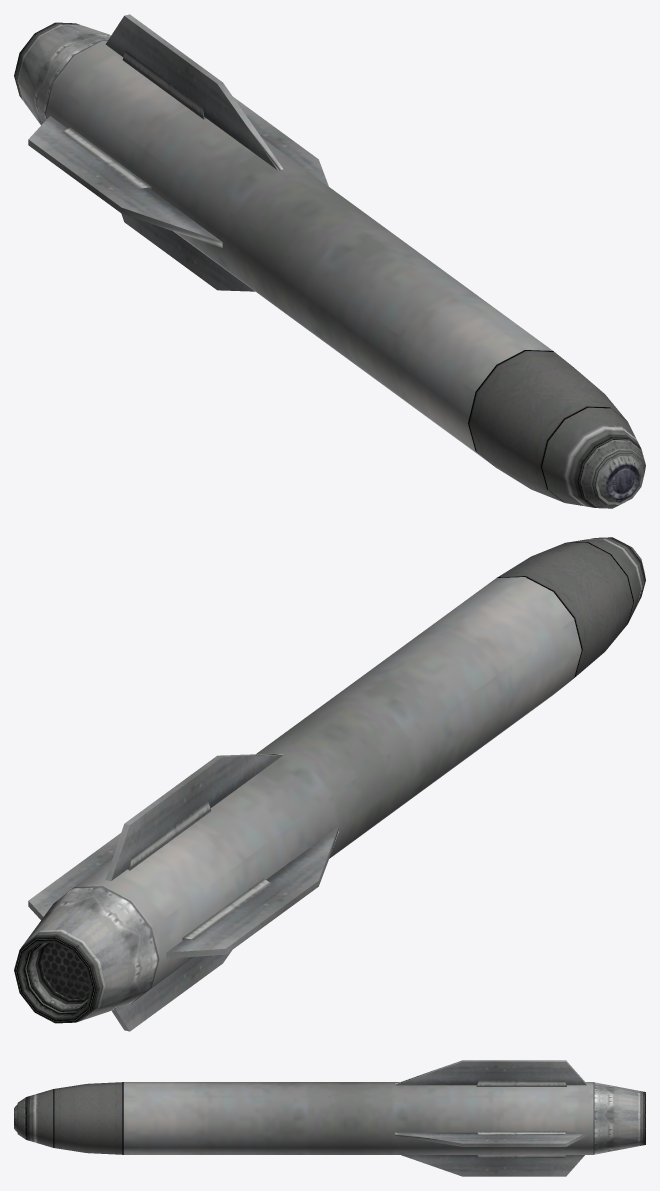
Rendered from LRM-5-22 Deneb.fbx.
The picture shows the model from 3 angles, top to bottom: view 1: azimuth 30°, elevation 25°; view 2: azimuth 150°, elevation 25°; view 3: azimuth 270°, elevation 25°; orthographic projection. The views are drawn at different scales.
Parts seen in each view (by area): view 1: LRM-5-22 Deneb; view 2: LRM-5-22 Deneb; view 3: LRM-5-22 Deneb.
Boxes of the visible parts, x1,y1,x2,y2 form: LRM-5-22 Deneb: (14,14,645,508); LRM-5-22 Deneb: (14,537,645,1031); LRM-5-22 Deneb: (14,1060,645,1176).
Size of the model in its own units: 155 by 155 by 775.
Materials: 1 (1 with a texture image).
